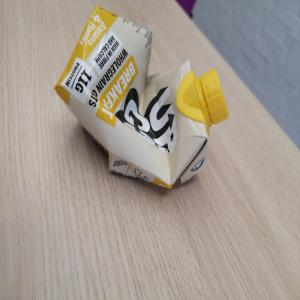Trash: (54, 5, 231, 193)
